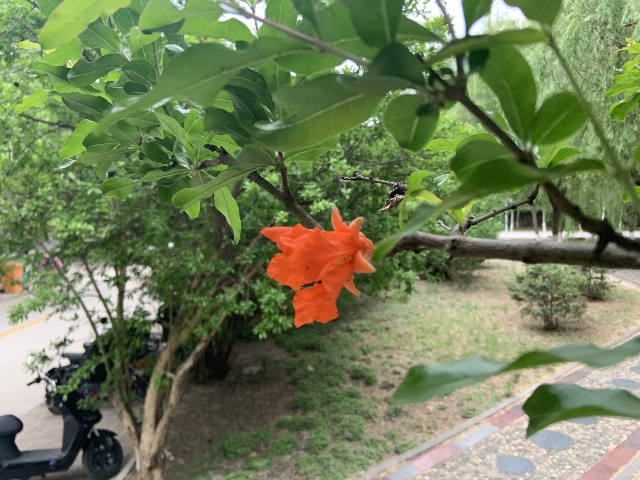flower: (260, 204, 377, 329)
